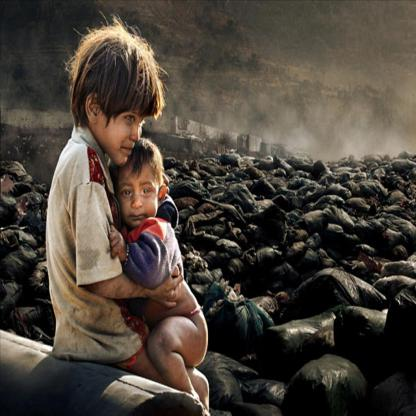face: (107, 81, 151, 167), (118, 166, 159, 231)
